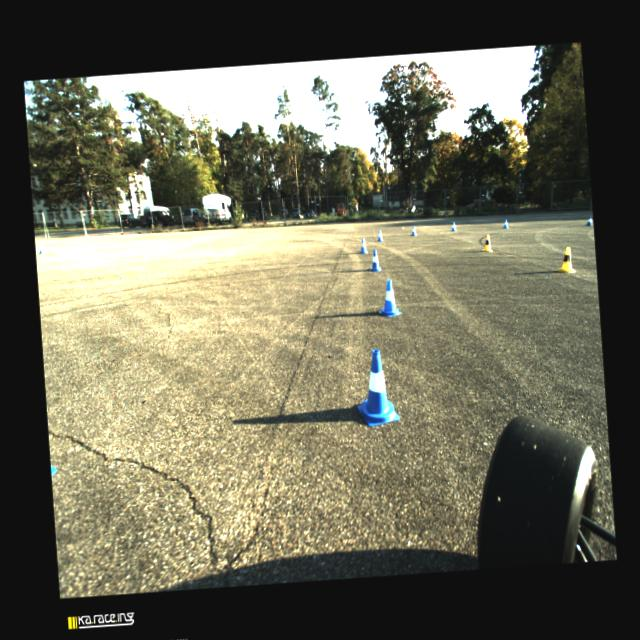blue_cone: (352, 347, 400, 428), (376, 278, 402, 318), (366, 248, 382, 272), (358, 236, 368, 254), (375, 228, 383, 242), (37, 242, 45, 254), (584, 215, 592, 226), (409, 224, 416, 236), (449, 220, 456, 231), (502, 218, 508, 228)
yellow_cone: (556, 245, 576, 274), (480, 234, 492, 252)
